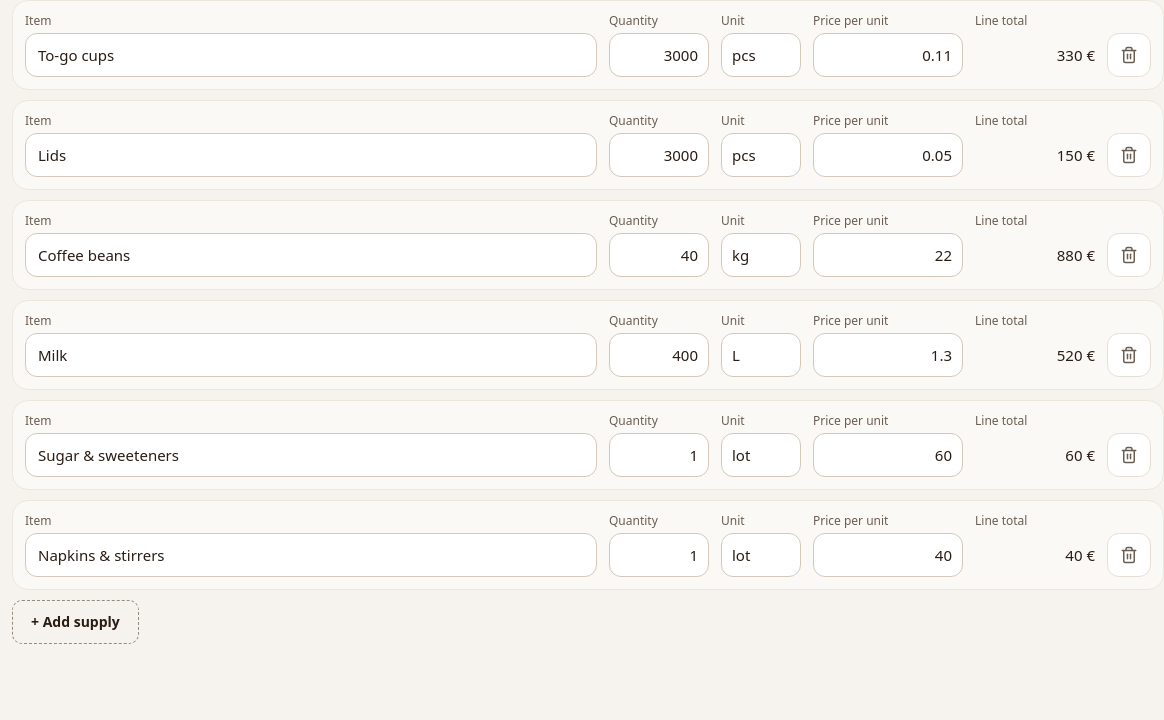
Test: SuppliesEditor › says nothing about the menu when the item isn't on it
Replace the text in the field labelled "Price per unit" next to "40 €" with "50" at (888, 555), box [813,533,963,577]
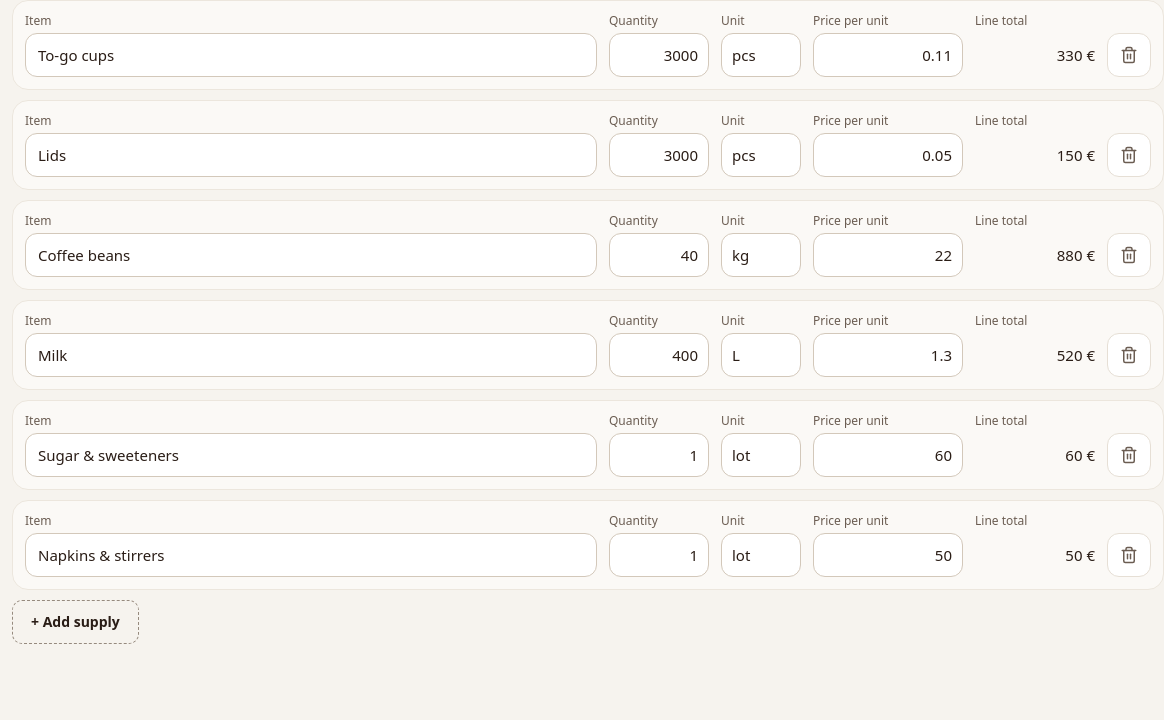
Press Tab
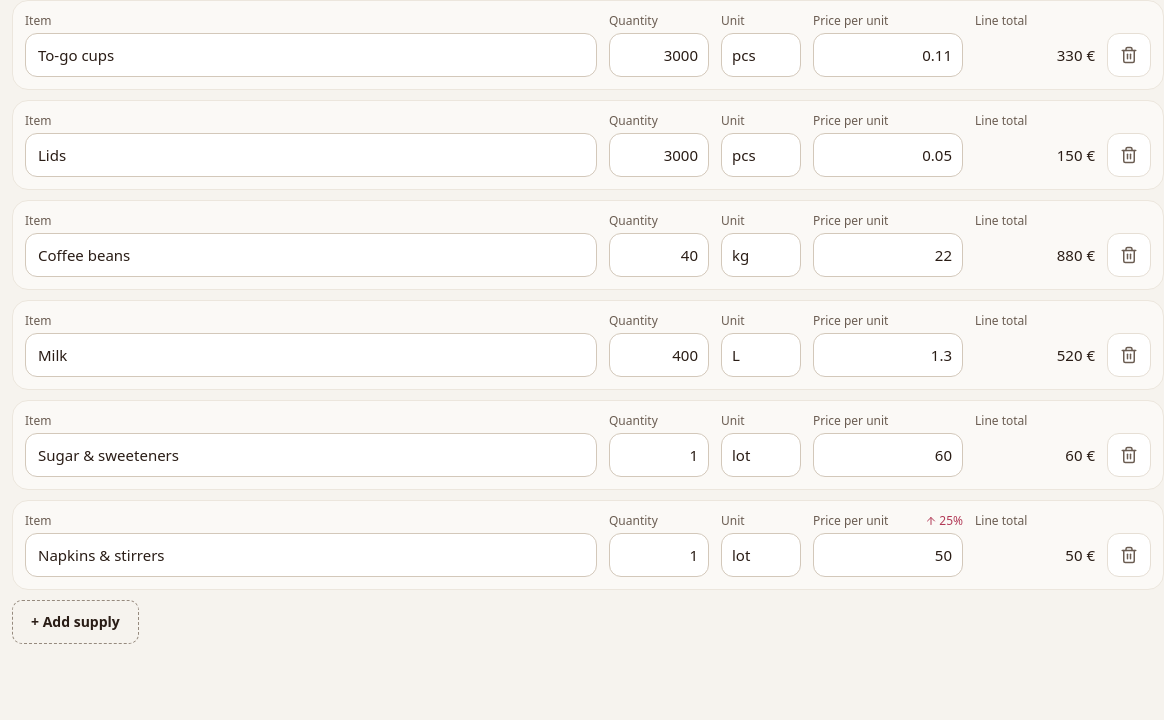
expect the text "25%" is shown: met, box [925,513,963,529]
